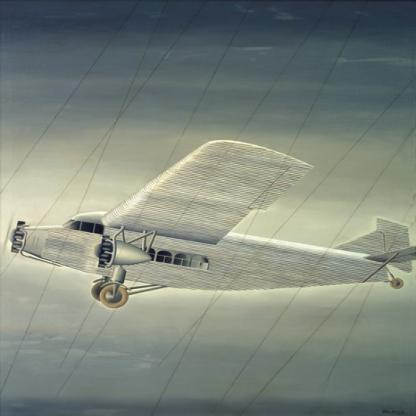CIV_Plane: (0, 137, 415, 311)
